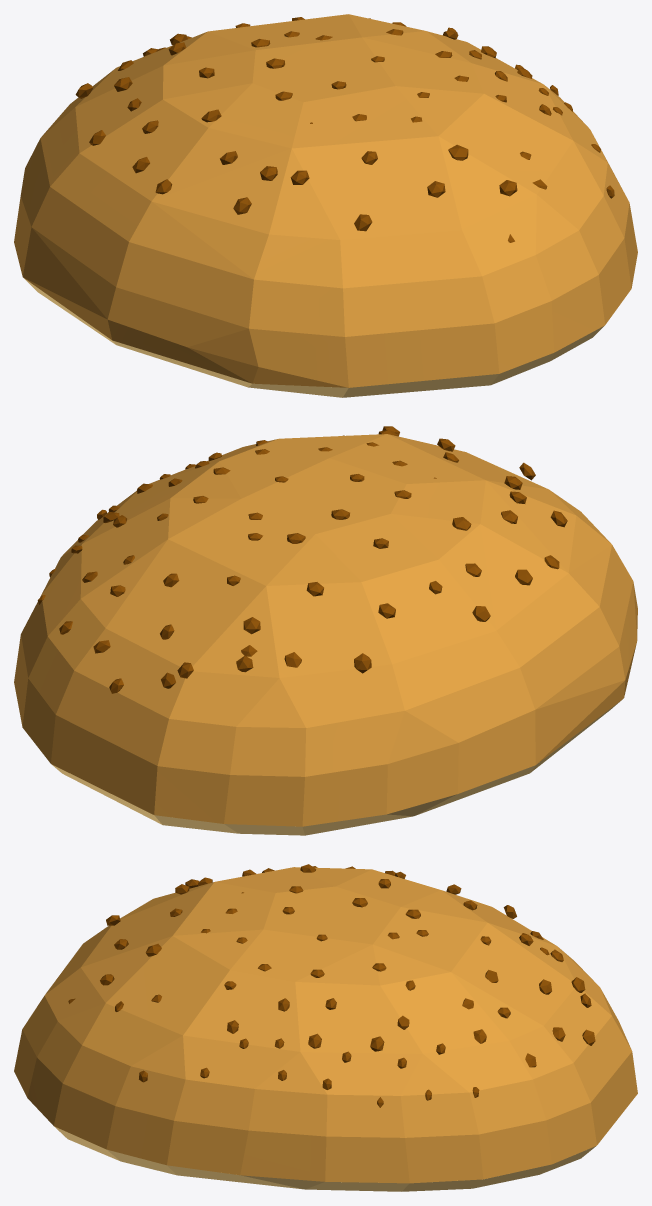
Rendered from topBun-transformed.glb.
The picture shows the model from 3 angles, top to bottom: view 1: azimuth 30°, elevation 25°; view 2: azimuth 150°, elevation 25°; view 3: azimuth 270°, elevation 25°; orthographic projection. The views are drawn at different scales.
Parts seen in each view (by area): view 1: topBun; view 2: topBun; view 3: topBun.
Part boxes in pixels (x1,y1,x2,y2): topBun: (14, 14, 637, 397); topBun: (14, 426, 637, 835); topBun: (14, 864, 637, 1191).
Size of the model in its own units: 1.37 by 0.559 by 1.6.
